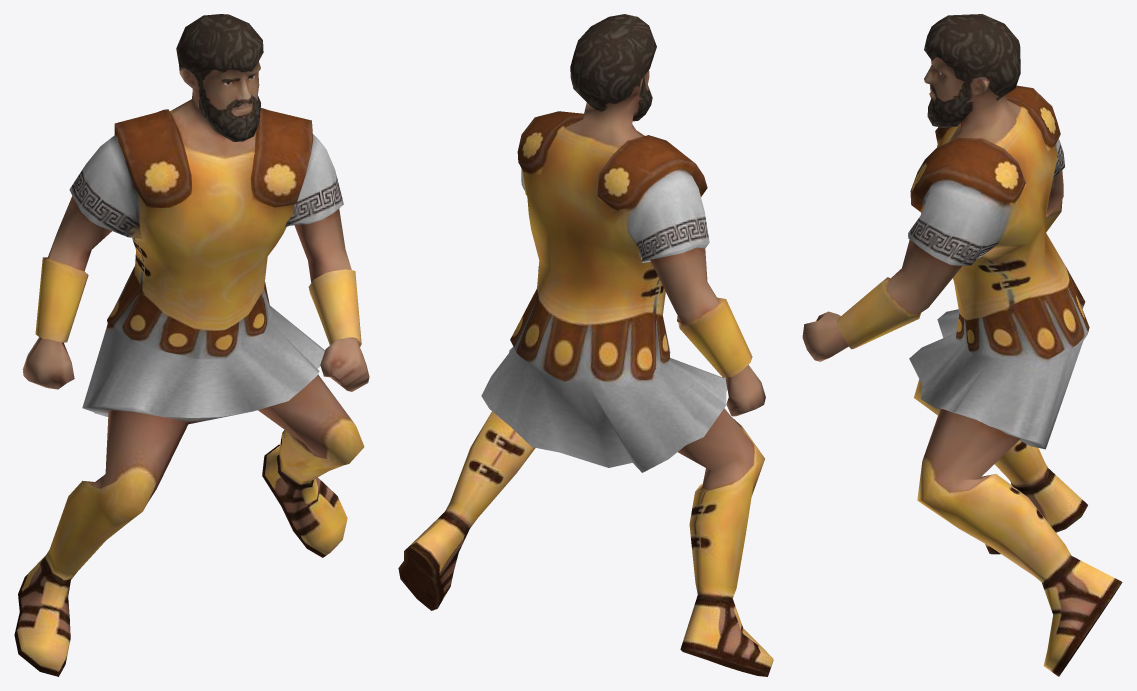
File: rider-slice-championcavalry.glb
3 renders of one model, left to right at view 1: azimuth 30°, elevation 25°; view 2: azimuth 150°, elevation 25°; view 3: azimuth 270°, elevation 25°, orthographic. The views are drawn at different scales.
Size of the model in its own units: 1.15 by 1.97 by 0.935.
Materials: 1 (1 with a texture image).
